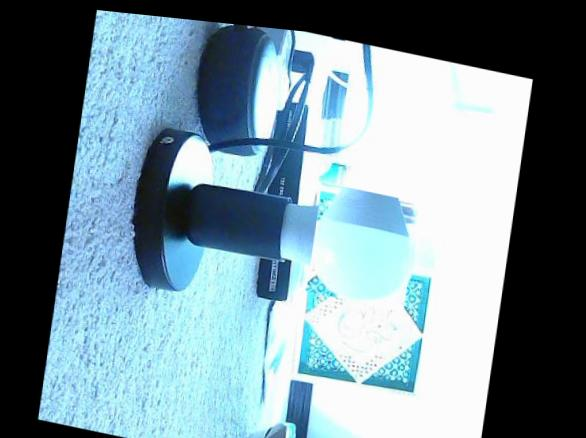Fan: (303, 176, 421, 301)
